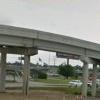Bridge: (3, 16, 100, 87)
